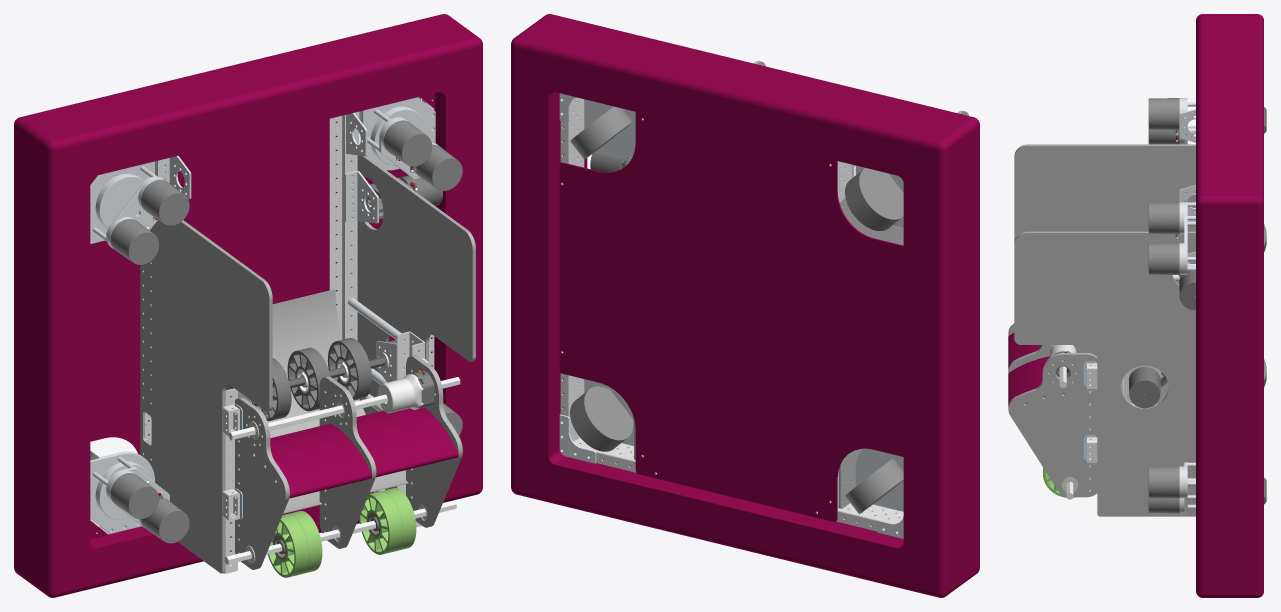
The picture shows the model from 3 angles, left to right: view 1: azimuth 30°, elevation 25°; view 2: azimuth 150°, elevation 25°; view 3: azimuth 270°, elevation 25°; orthographic projection. The views are drawn at different scales.
Parts seen in each view (by area): view 1: Part 1 (×9), Bumper (×2), Simplified MK4 (×3), 4" Compliant Wheel (35A, 1" Wide, 1/2" Hex Bore) (×7), VersaFrame C-Channel (×3), Motor Mount (×4), 1/2" Hex (17" L, 7075 Aluminum) (×2), mesh3507_mesh; view 2: Part 1 (×2), Bumper (×2), Simplified MK4 (×4), VersaFrame C-Channel (×2), 1 in. 90 Deg. Gusset (am-3860); view 3: Part 1 (×6), Bumper (×2), Simplified MK4 (×3), NEO Brushless Motor V1.1 (×2), Motor Mount.
Part boxes in pixels (x1,y1,x2,y2): Part 1 (×9): [90, 119, 475, 573]; Bumper (×2): [14, 14, 482, 597]; Simplified MK4 (×3): [90, 97, 462, 543]; 4" Compliant Wheel (35A, 1" Wide, 1/2" Hex Bore) (×7): [251, 338, 416, 577]; VersaFrame C-Channel (×3): [223, 115, 424, 573]; Motor Mount (×4): [157, 111, 404, 382]; 1/2" Hex (17" L, 7075 Aluminum) (×2): [224, 377, 460, 564]; mesh3507_mesh: [378, 374, 423, 413]; Part 1 (×2): [559, 110, 968, 521]; Bumper (×2): [511, 14, 979, 597]; Simplified MK4 (×4): [570, 99, 903, 514]; VersaFrame C-Channel (×2): [560, 97, 903, 532]; 1 in. 90 Deg. Gusset (am-3860): [559, 414, 596, 463]; Part 1 (×6): [1008, 144, 1195, 516]; Bumper (×2): [1196, 14, 1263, 597]; Simplified MK4 (×3): [1148, 98, 1266, 513]; NEO Brushless Motor V1.1 (×2): [1129, 271, 1195, 408]; Motor Mount: [1179, 109, 1195, 142].
Size of the model in its own units: 0.8255 by 0.8268 by 0.4823.
